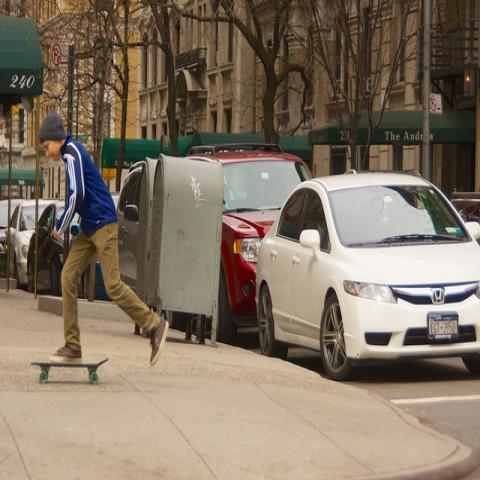car: (255, 166, 479, 380), (10, 199, 60, 289), (26, 200, 65, 299), (116, 157, 143, 292), (0, 199, 28, 275), (451, 189, 479, 224)
truck: (184, 134, 314, 342)
